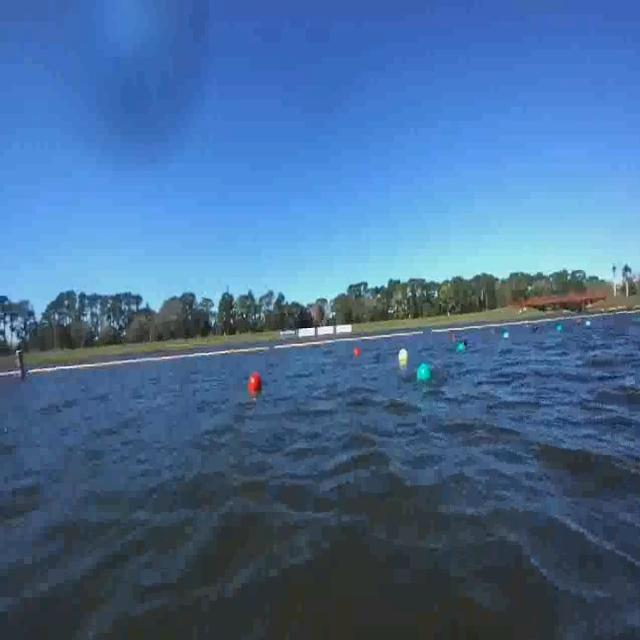green-buoy: (418, 362, 433, 380), (457, 344, 465, 354)
red-buoy: (249, 374, 262, 394), (354, 347, 361, 358)
yellow-buoy: (400, 349, 411, 366)
